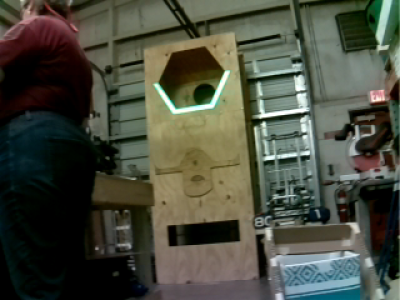target: (153, 70, 229, 115)
